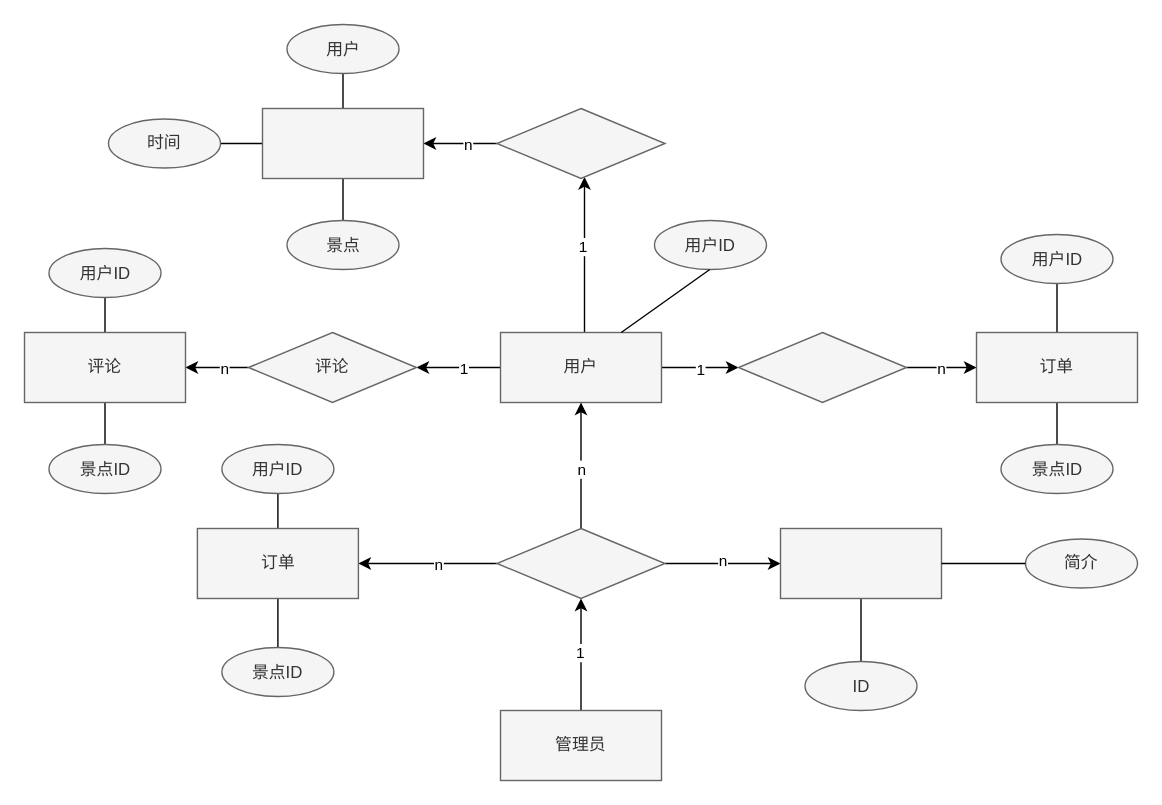
Image size: 1162x805. Some labels were removed from this diagram. Each missing label, with the centre of its shape:
"下单" goes at (x=821, y=366).
"收藏" goes at (x=580, y=142).
"收藏内容" goes at (x=342, y=142).
"景区" goes at (x=860, y=562).
"管理" goes at (x=580, y=562).
